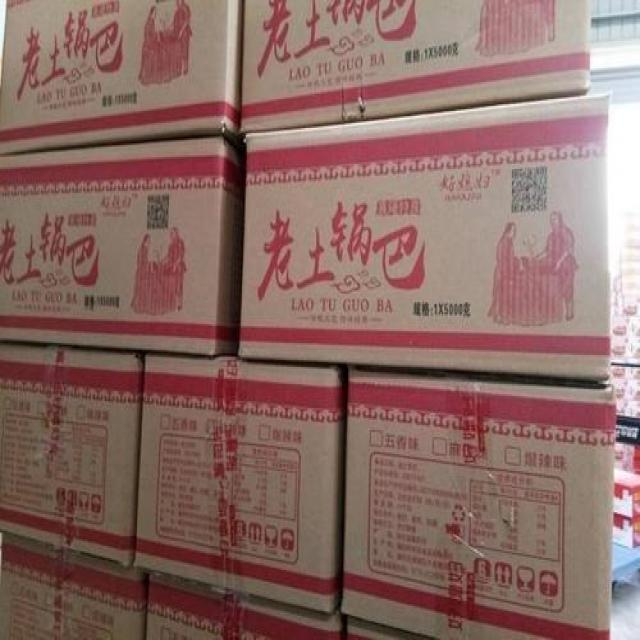box: (230, 93, 613, 389), (334, 363, 619, 640), (130, 345, 341, 620), (0, 127, 248, 355), (239, 0, 591, 148), (0, 0, 244, 143), (0, 336, 145, 574), (0, 539, 152, 639)
